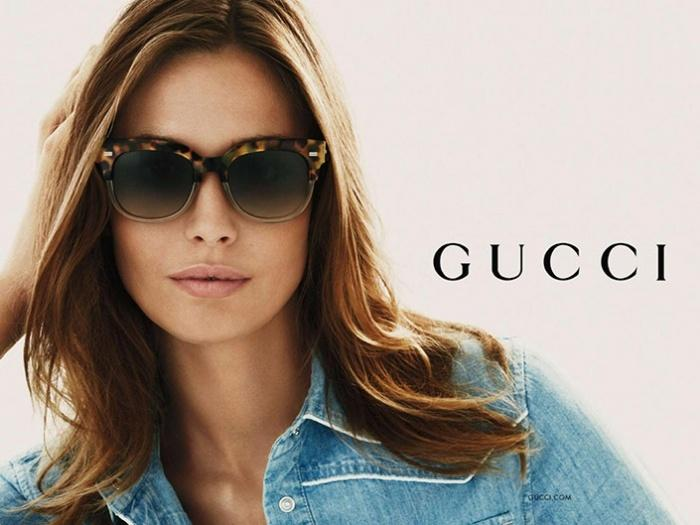GUCCI: (432, 241, 667, 282)
